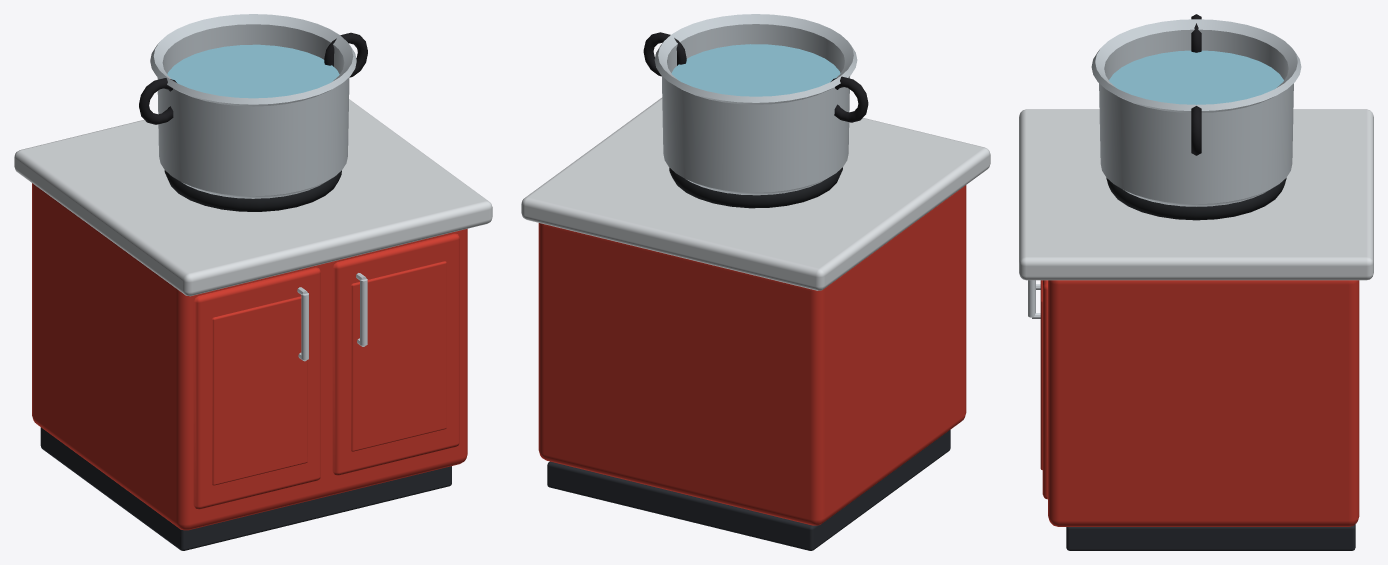
The model's file is station-pot.glb.
3 renders of one model, left to right at view 1: azimuth 30°, elevation 25°; view 2: azimuth 150°, elevation 25°; view 3: azimuth 270°, elevation 25°, orthographic. The views are drawn at different scales.
Parts seen in each view (by area): view 1: Pot, Water; view 2: Pot, Water; view 3: Pot, Water.
Part boxes in pixels (box(x1,y1,x2,y2)): Pot: box(14, 14, 492, 550); Water: box(167, 44, 339, 98); Pot: box(521, 14, 990, 550); Water: box(671, 44, 840, 96); Pot: box(1019, 14, 1373, 550); Water: box(1109, 50, 1283, 104).
Size of the model in its own units: 1 by 1.29 by 0.9801.
